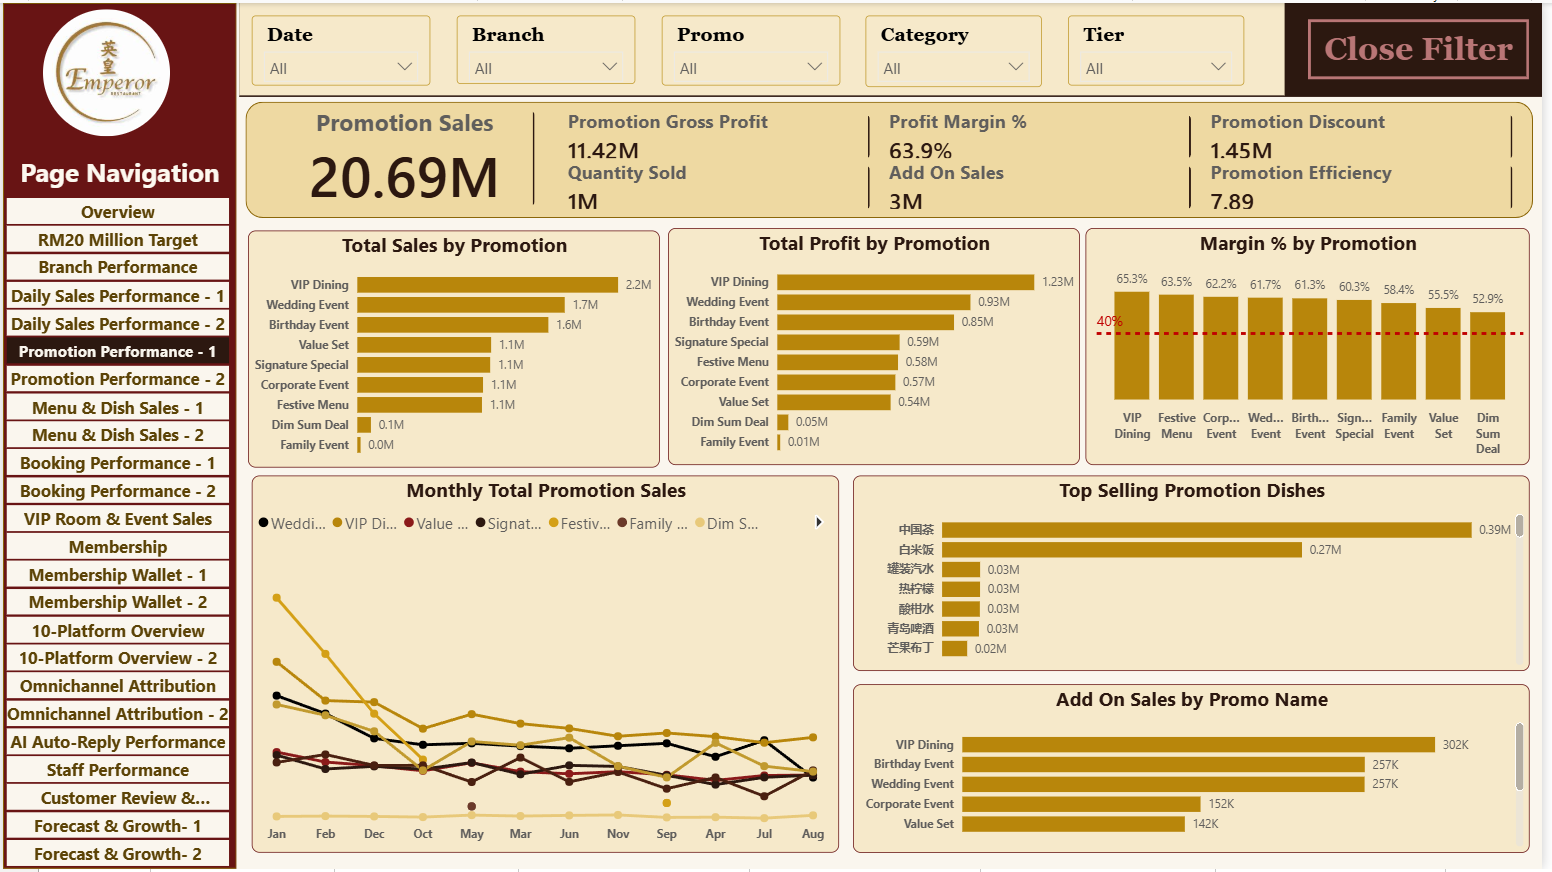

The dashboard page shown, as its layout file describes it:
{"tool":"powerbi","page":{"name":"Promotion Performance - 1","canvas":[1600,900],"ordinal":5},"visuals":[{"type":"clusteredBarChart","title":"Total Sales by Promotion","fields":{"Category":["Dim_Promotion.Promo Name"],"Y":["__DAX_Measures.Promotion Sales"]},"box":[254,236,428,246],"z":0},{"type":"clusteredBarChart","title":"Total Profit by Promotion","fields":{"Category":["Dim_Promotion.Promo Name"],"Y":["__DAX_Measures.Promotion Gross Profit"]},"box":[690.7,234,428,246],"z":1000},{"type":"columnChart","title":"Margin % by Promotion","fields":{"Category":["Dim_Promotion.Promo Name"],"Y":["__DAX_Measures.Profit Margin %"]},"box":[1125,233.3,461.7,246.7],"z":2000},{"type":"shape","box":[0,0,242.7,899.7],"z":3000},{"type":"shape","box":[252,102.6,1338.1,120.8],"z":4000},{"type":"cardVisual","fields":{"Data":["__DAX_Measures.Promotion Gross Profit","__DAX_Measures.Profit Margin %","__DAX_Measures.Promotion Discount","__DAX_Measures.Quantity Sold","__DAX_Measures.Add On Sales","__DAX_Measures.Promotion Efficiency"]},"box":[563.8,105.2,1017.2,120.8],"z":5000},{"type":"cardVisual","fields":{"Data":["__DAX_Measures.Promotion Sales"]},"box":[271.5,101.3,292.3,120.8],"z":6000},{"type":"lineChart","title":"Monthly Total Promotion Sales","fields":{"Category":["Dim_Date.MonthShort"],"Series":["Dim_Promotion.Promo Name"],"Y":["__DAX_Measures.Promotion Sales"]},"box":[258.3,491.7,610,391.7],"z":7000},{"type":"barChart","title":"Top Selling Promotion Dishes","fields":{"Category":["Dim_MenuItem.ItemNameCN"],"Y":["__DAX_Measures.Quantity Sold"]},"box":[883.3,491.7,703.3,203.3],"z":8000},{"type":"barChart","fields":{"Category":["Dim_Promotion.Promo Name"],"Y":["__DAX_Measures.Add On Sales"]},"box":[883.3,708.3,703.3,175],"z":9000},{"type":"textbox","box":[245.5,0,1354.9,97.4],"z":10000},{"type":"shape","box":[245.5,0,1086,96.1],"z":11000},{"type":"actionButton","title":"Close Filter","box":[1356.2,16.9,229.9,62.4],"z":12000},{"type":"slicer","fields":{"Values":["Dim_Date.Date"]},"box":[258.5,12.5,185.8,72.7],"z":14000},{"type":"slicer","fields":{"Values":["Dim_Branch.BranchName"]},"box":[471.2,12.5,185.8,71.4],"z":15000},{"type":"slicer","fields":{"Values":["Dim_Promotion.Promo Name"]},"box":[684,12.5,185.8,72.7],"z":16000},{"type":"slicer","fields":{"Values":["Dim_Customer.Tier"]},"box":[1106.8,12.5,183.2,72.7],"z":17000},{"type":"slicer","fields":{"Values":["Dim_MenuItem.Category"]},"box":[896.7,12.5,183.2,74],"z":18000},{"type":"image","box":[41.9,6.2,131.9,131.9],"z":21000},{"type":"pageNavigator","box":[4.4,202.3,231.1,697.7],"z":21001},{"type":"textbox","box":[0,152.6,242.7,46.5],"z":21002}]}

Visuals, with their boxes in screenshot pixels (x1, y1, x2, y2), scaled from the page's 1600x900 canvas onto the 1552x872 screenshot:
"Total Sales by Promotion" clusteredBarChart: {"x1": 246, "y1": 229, "x2": 662, "y2": 467}
"Total Profit by Promotion" clusteredBarChart: {"x1": 670, "y1": 227, "x2": 1085, "y2": 465}
"Margin % by Promotion" columnChart: {"x1": 1091, "y1": 226, "x2": 1539, "y2": 465}
shape: {"x1": 0, "y1": 0, "x2": 235, "y2": 871}
shape: {"x1": 244, "y1": 99, "x2": 1542, "y2": 216}
cardVisual - __DAX_Measures.Promotion Gross Profit x __DAX_Measures.Profit Margin %: {"x1": 547, "y1": 102, "x2": 1534, "y2": 219}
cardVisual - __DAX_Measures.Promotion Sales: {"x1": 263, "y1": 98, "x2": 547, "y2": 215}
"Monthly Total Promotion Sales" lineChart: {"x1": 251, "y1": 476, "x2": 842, "y2": 856}
"Top Selling Promotion Dishes" barChart: {"x1": 857, "y1": 476, "x2": 1539, "y2": 673}
barChart - Dim_Promotion.Promo Name x __DAX_Measures.Add On Sales: {"x1": 857, "y1": 686, "x2": 1539, "y2": 856}
textbox: {"x1": 238, "y1": 0, "x2": 1551, "y2": 94}
shape: {"x1": 238, "y1": 0, "x2": 1292, "y2": 93}
"Close Filter" actionButton: {"x1": 1316, "y1": 16, "x2": 1539, "y2": 77}
slicer - Dim_Date.Date: {"x1": 251, "y1": 12, "x2": 431, "y2": 83}
slicer - Dim_Branch.BranchName: {"x1": 457, "y1": 12, "x2": 637, "y2": 81}
slicer - Dim_Promotion.Promo Name: {"x1": 663, "y1": 12, "x2": 844, "y2": 83}
slicer - Dim_Customer.Tier: {"x1": 1074, "y1": 12, "x2": 1251, "y2": 83}
slicer - Dim_MenuItem.Category: {"x1": 870, "y1": 12, "x2": 1048, "y2": 84}
image: {"x1": 41, "y1": 6, "x2": 169, "y2": 134}
pageNavigator: {"x1": 4, "y1": 196, "x2": 228, "y2": 871}
textbox: {"x1": 0, "y1": 148, "x2": 235, "y2": 193}
